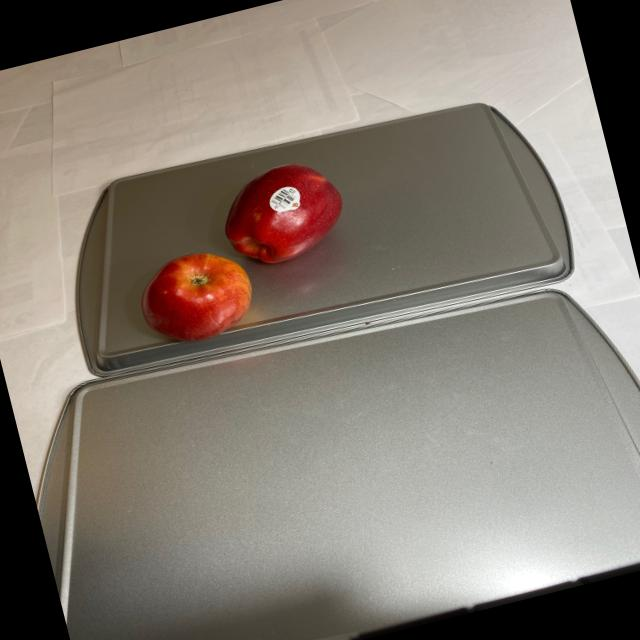apple: (112, 152, 368, 354)
